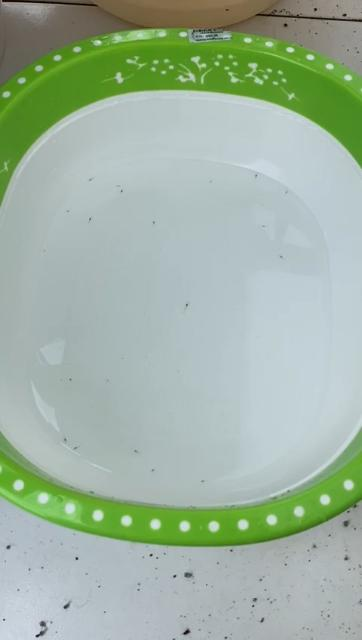benur: (278, 253, 286, 262), (281, 23, 290, 31), (133, 449, 141, 457), (88, 177, 95, 184), (254, 173, 259, 182), (68, 378, 74, 385), (283, 188, 288, 196), (261, 223, 267, 229), (65, 209, 71, 215), (200, 480, 206, 486), (185, 302, 189, 309), (88, 217, 92, 222), (151, 468, 156, 472), (74, 446, 79, 450), (64, 437, 67, 443), (152, 220, 156, 224), (120, 188, 123, 193), (117, 185, 121, 188), (209, 181, 212, 184)
